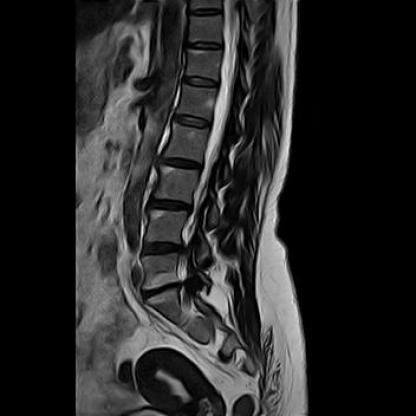Disc Bulgerotation: (140, 239, 183, 260), (140, 280, 181, 301)
